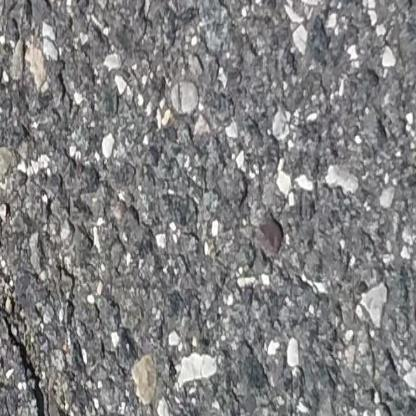Cracks: (0, 167, 57, 416)
